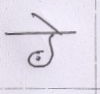e_matra: (32, 12, 61, 31)
